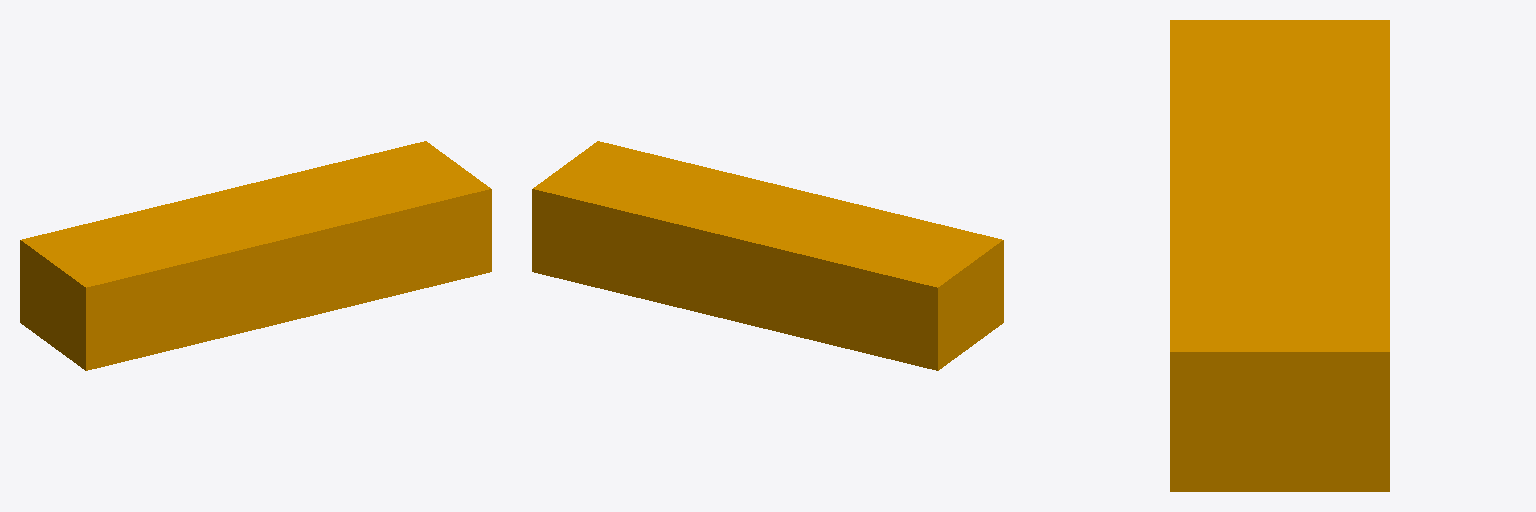
The robot description file, URDF, robot "mesh_object":
<?xml version="1.0" ?>
<robot name="mesh_object">
  <link name="base">
    <visual>
      <geometry>
        <mesh filename="eraser_4.obj" scale="1 1 1"/>
      </geometry>
    </visual>
    <collision>
      <geometry>
        <mesh filename="eraser_4.obj" scale="1 1 1"/>
      </geometry>
    </collision>
    <inertial>
      <origin xyz="0.000000 0.000000 0.022565" rpy="0 0 0"/>
      <mass value="0.5"/>
      <inertia ixx="0.01" iyy="0.01" izz="0.01" ixy="0" ixz="0" iyz="0"/>
    </inertial>
  </link>
</robot>

--- What the picture shows (computed from the rendered views, not written in the file) ---
3 views of the same robot in one strip: view 1: azimuth 30°, elevation 25°; view 2: azimuth 150°, elevation 25°; view 3: azimuth 270°, elevation 25° (orthographic).
Robot: mesh_object — 1 links, 0 joints (none); root link base; default pose: every joint at zero.
Links seen in each view (by area): view 1: base; view 2: base; view 3: base.
Boxes of the visible links, box(x1,y1,x2,y2) form: base: box(20, 141, 491, 370); base: box(532, 141, 1003, 370); base: box(1170, 20, 1389, 491).
Size in the robot's own frame: 0.23 by 0.0643 by 0.0451 metres.
Meshes: 1 distinct files referenced, 1 mesh visuals loaded (1 OBJ).
